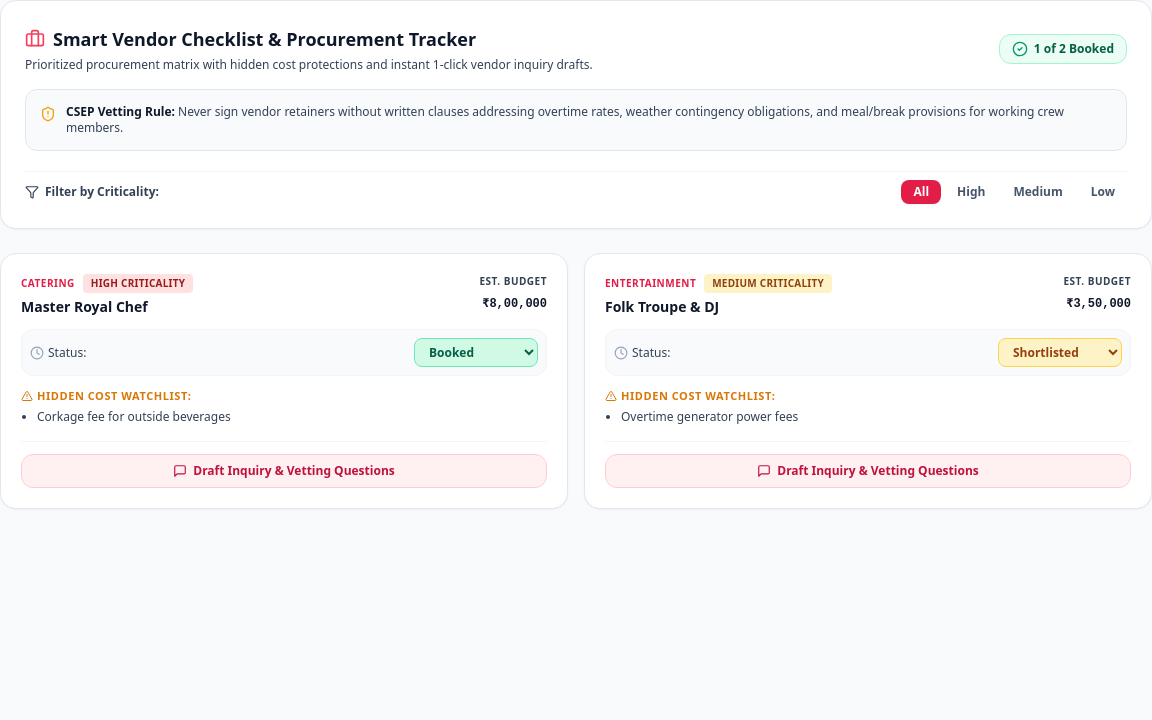
Scenario: VendorEngine component › filters vendors by criticality
Click the button with aria-label "Filter vendors: High" at (971, 192), box [945,180,997,204]
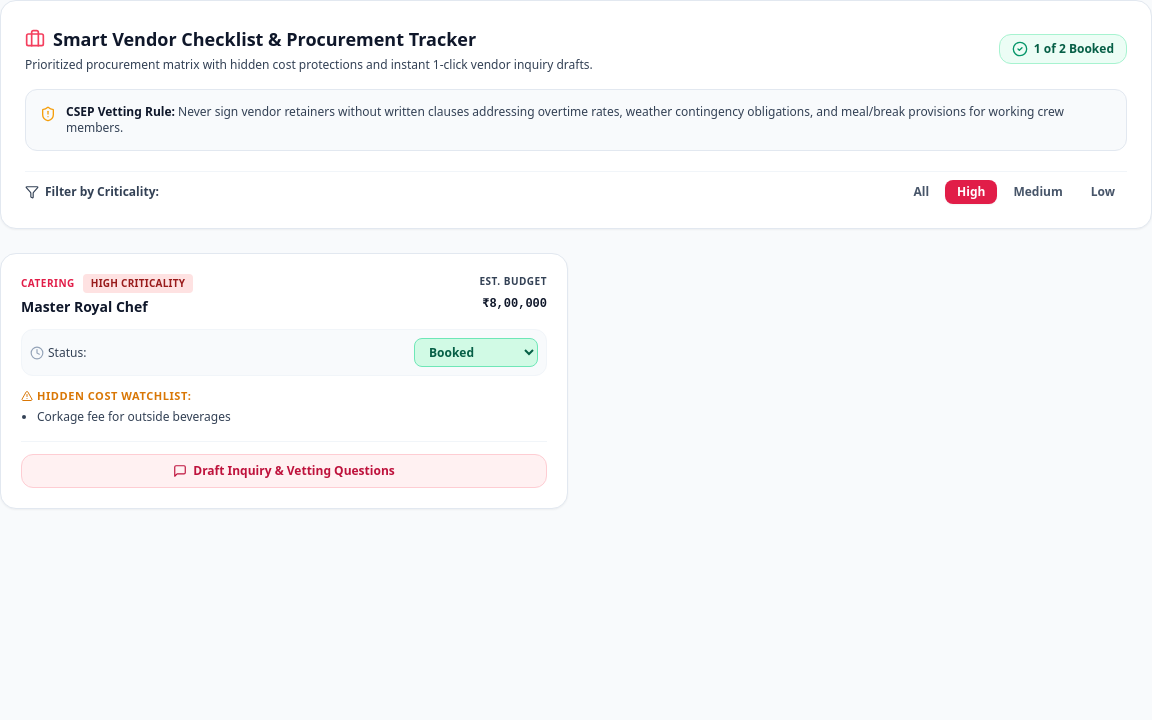
Expected: the heading "Master Royal Chef" is shown, [21,297,148,316]
Expected: the heading "Folk Troupe & DJ" is gone
